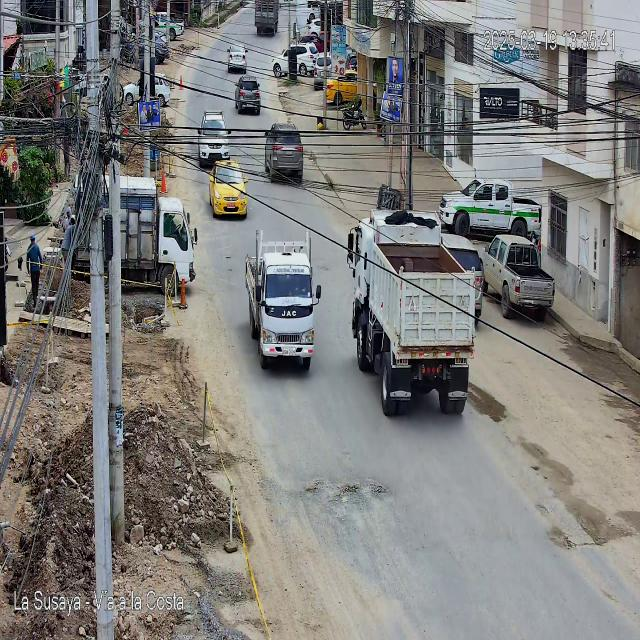SED: (210, 160, 246, 219)
TRUCK: (346, 212, 481, 418), (246, 242, 322, 376)
